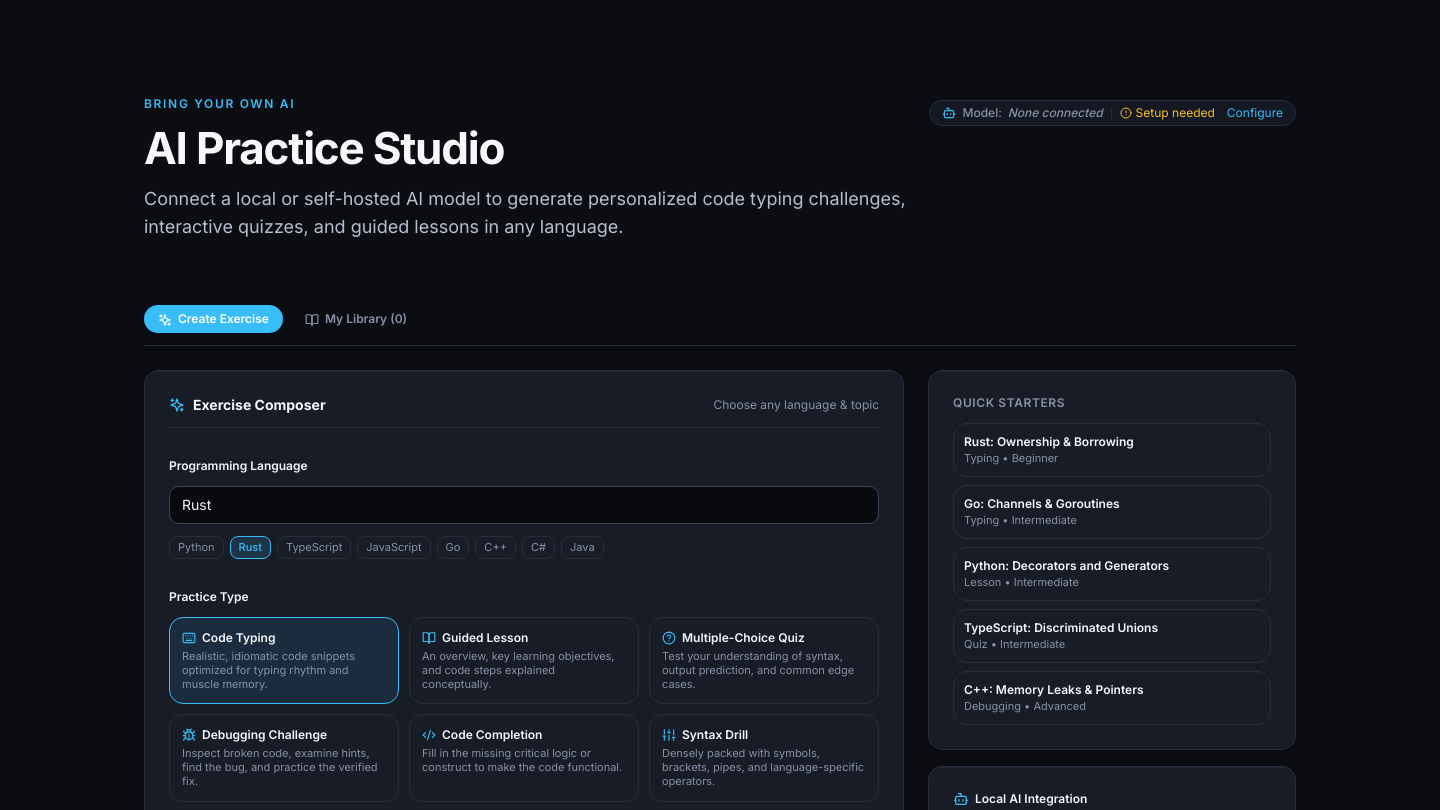
Test case: AI Practice Studio UI › switches between tabs: Create Exercise and My Library
Click the button "My Library (0)": click(356, 319) [291,305,421,333]
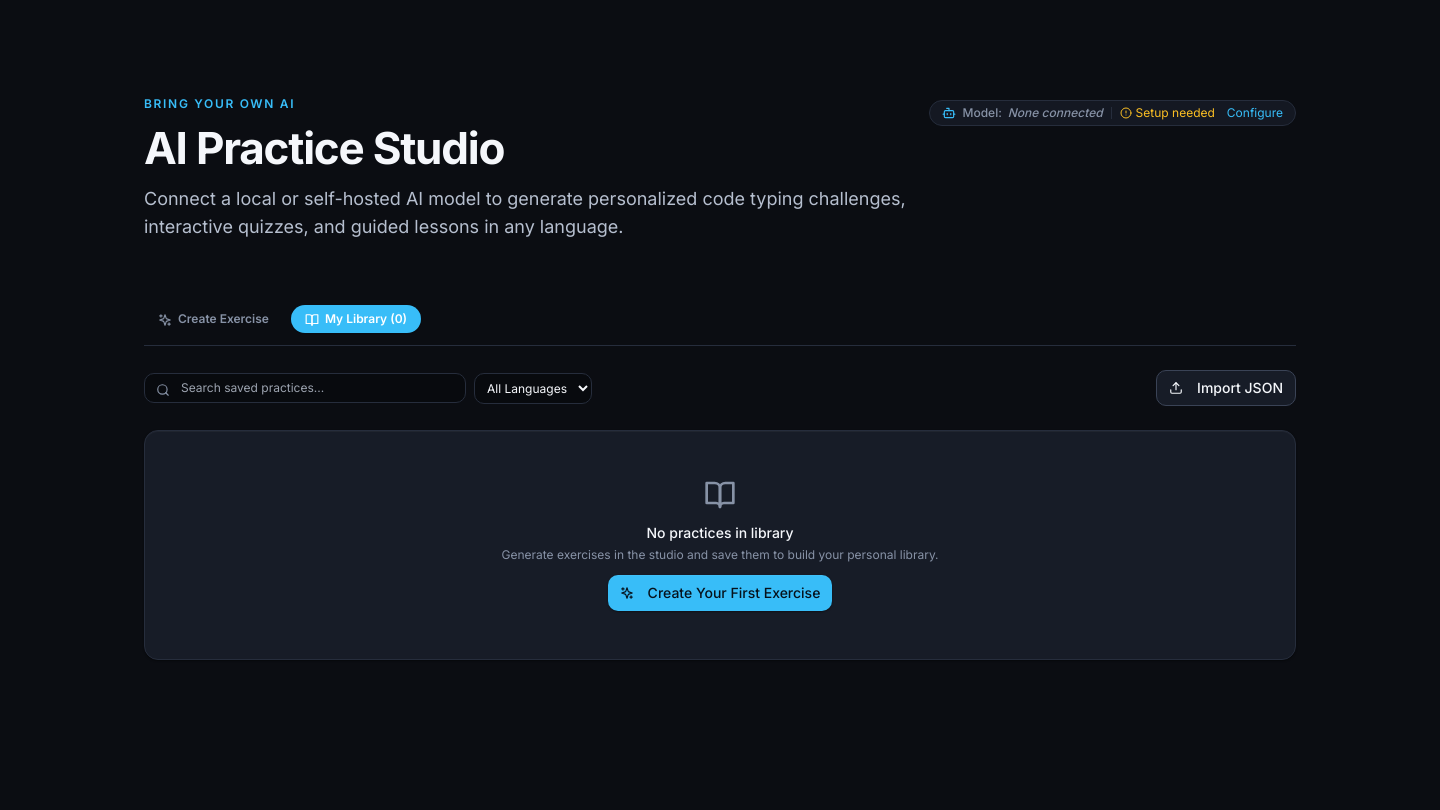
Expected: the text "No practices in library" is shown, [646,524,794,541]
Click the button "Create Exercise": click(214, 319) [144,305,283,333]
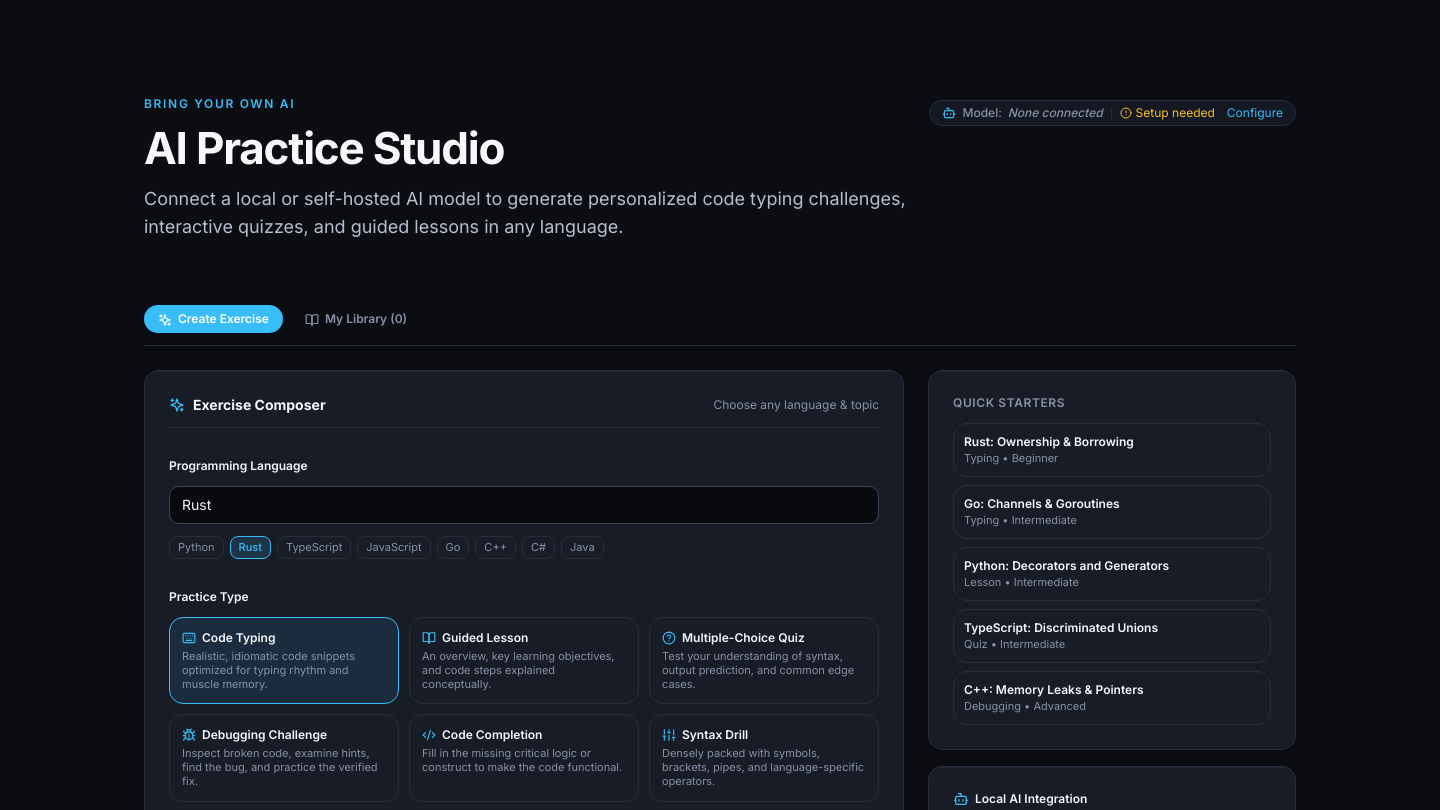
Expected: the heading "Exercise Composer" is shown, [169,395,326,415]
